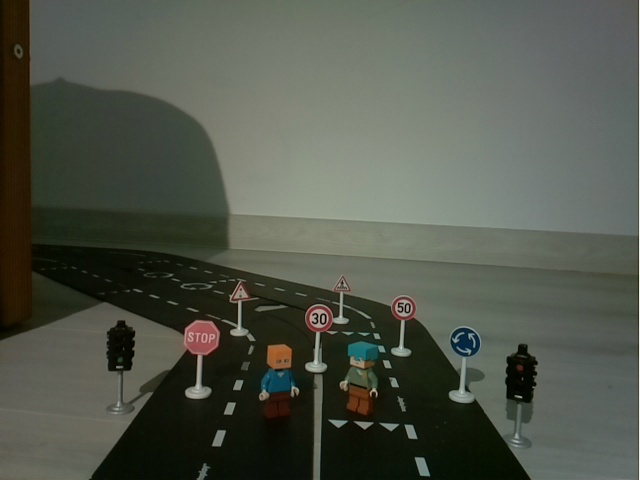green light: (98, 315, 149, 422)
limit 30: (303, 302, 333, 377)
limit 50: (389, 291, 419, 359)
pedestrian sign: (333, 271, 354, 326)
person: (336, 336, 385, 421), (258, 341, 302, 425)
red light: (492, 336, 553, 455)
round: (443, 323, 487, 408)
stop: (176, 316, 220, 402)
traffic light sign: (225, 279, 254, 340)
